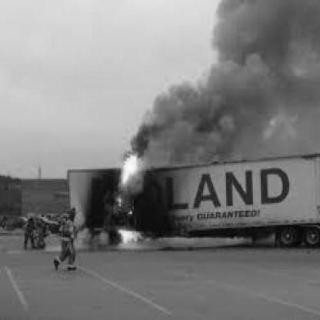Fire: (110, 221, 143, 247), (112, 193, 122, 207)
